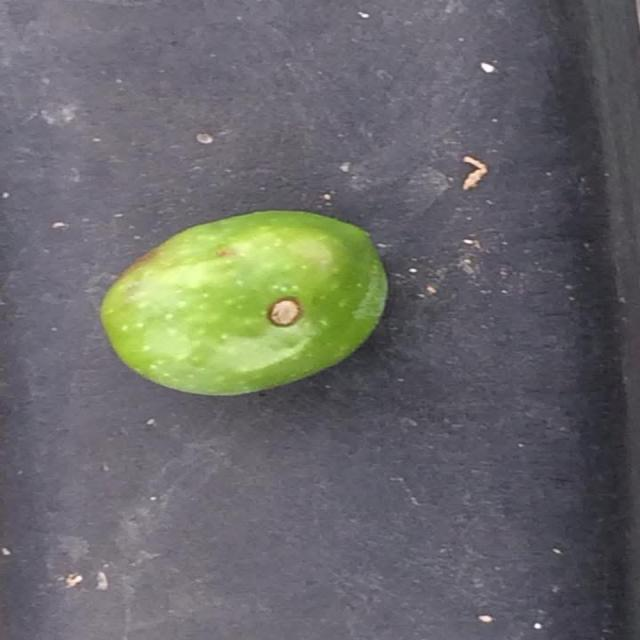Olive Fruit Fly: (100, 211, 388, 395)
